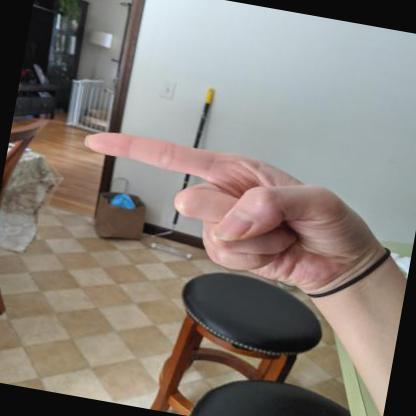G: (84, 132, 367, 302)
